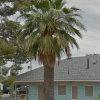Palm tree: (22, 2, 75, 98)
